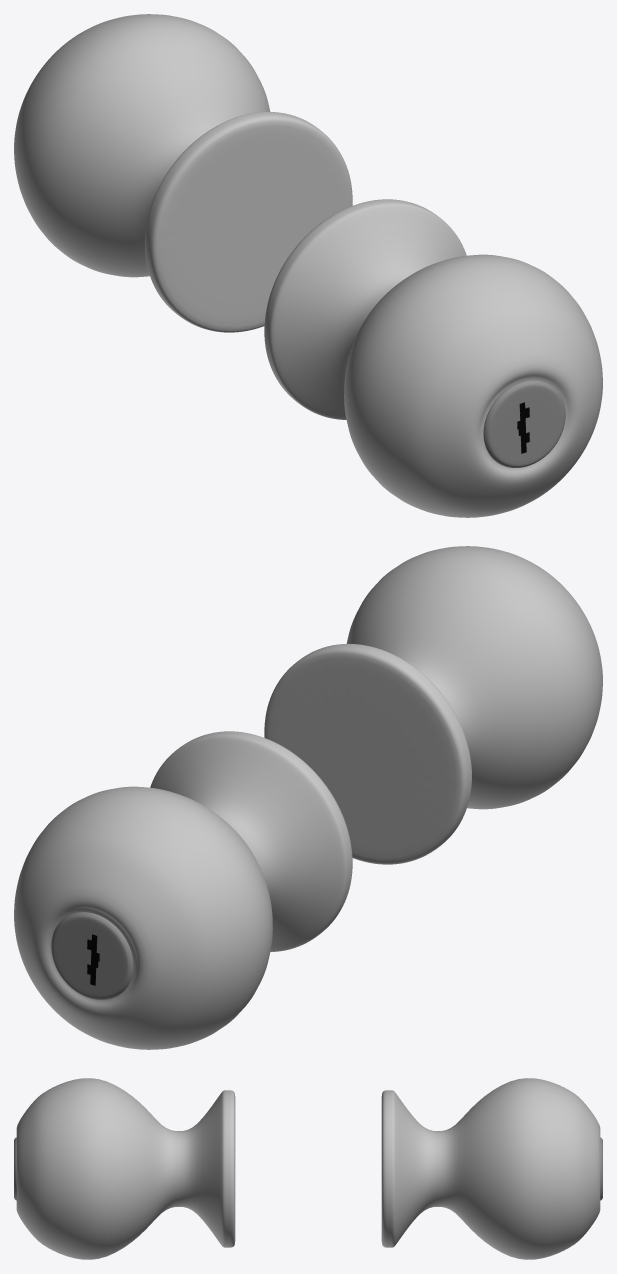
Rendered from door_knob.fbx.
3 views of the same model, one above another, from view 1: azimuth 30°, elevation 25°; view 2: azimuth 150°, elevation 25°; view 3: azimuth 270°, elevation 25° (orthographic). The views are drawn at different scales.
Visible parts, largest first — view 1: door_knob.001, door_knob, key_hole; view 2: door_knob, door_knob.001, key_hole.001; view 3: door_knob, door_knob.001.
Part boxes in pixels (box(x1,y1,x2,y2)): door_knob.001: box(14, 14, 352, 332); door_knob: box(264, 199, 602, 517); key_hole: box(483, 380, 565, 467); door_knob: box(264, 546, 602, 864); door_knob.001: box(14, 731, 352, 1049); key_hole.001: box(51, 912, 133, 999); door_knob: box(16, 1078, 235, 1259); door_knob.001: box(381, 1078, 600, 1259).
Size of the model in its own units: 8.37 by 8.37 by 27.14.
